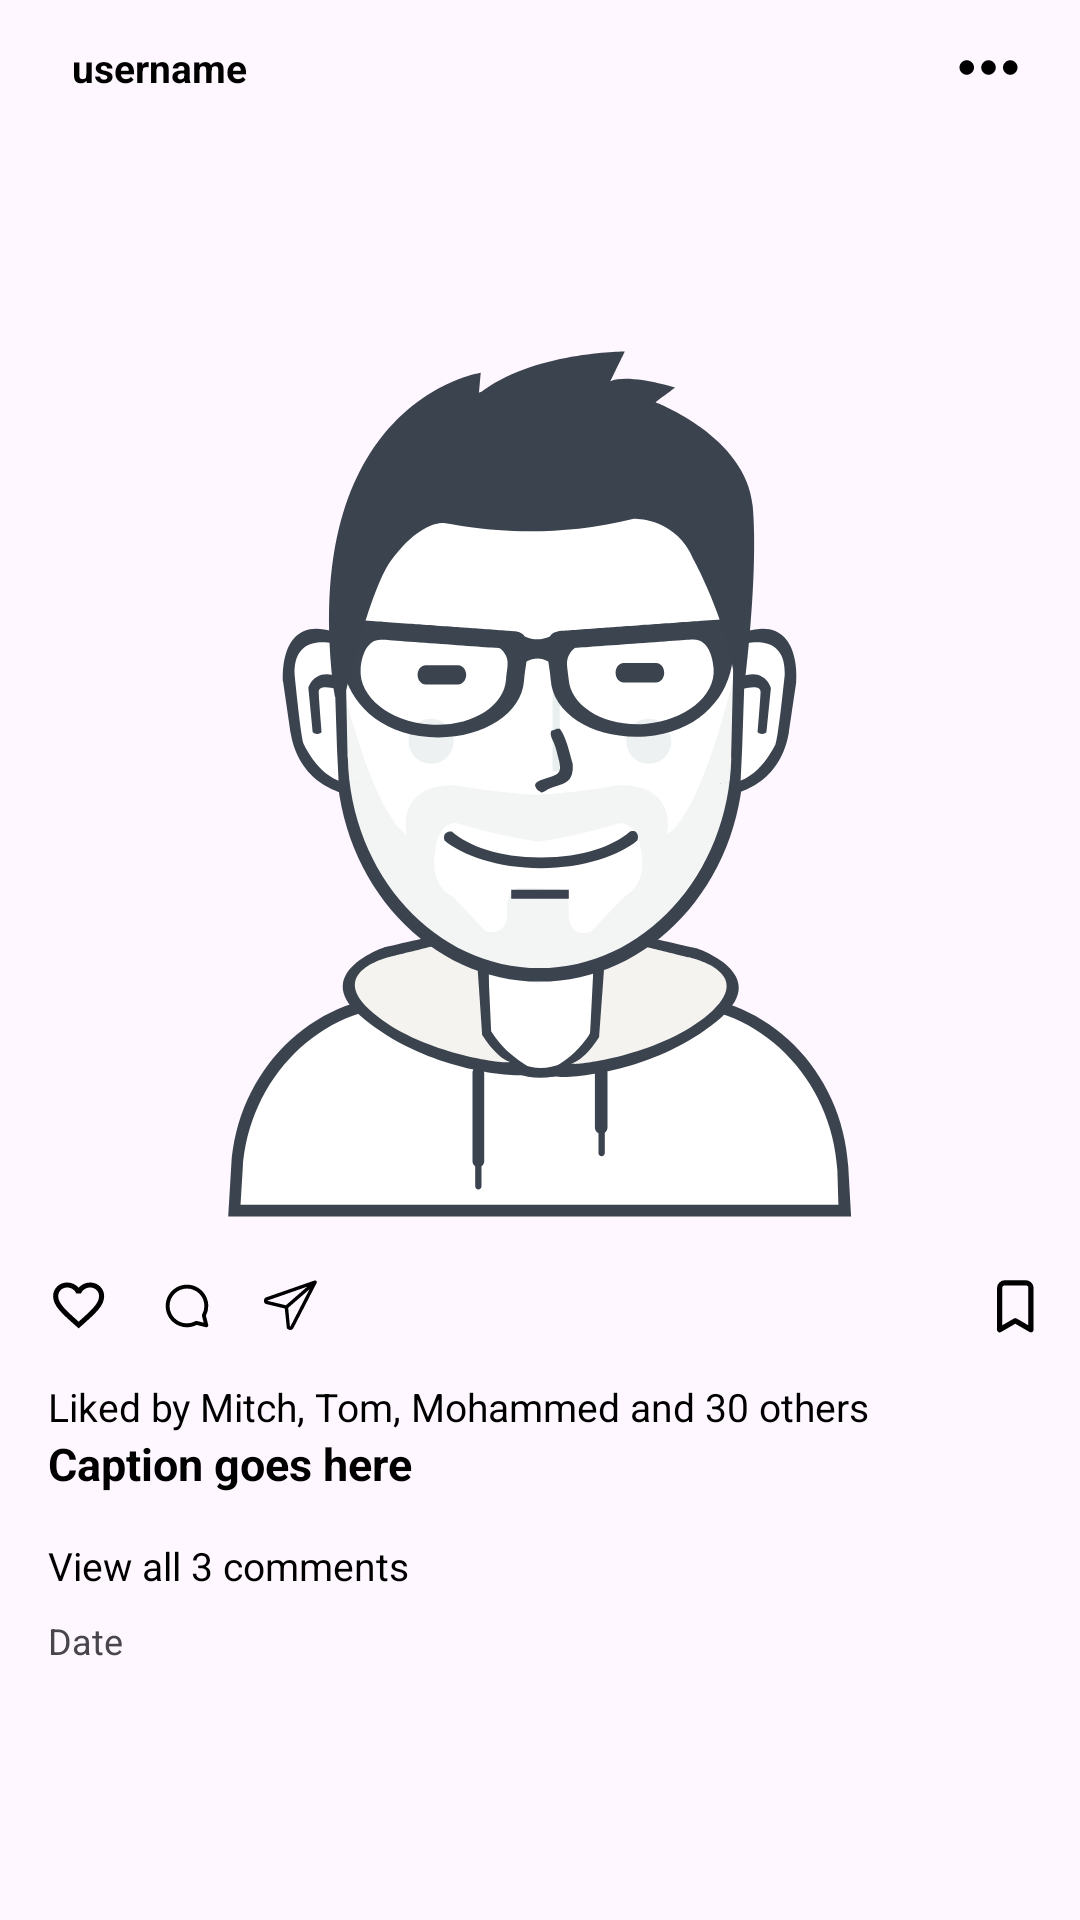

Icons on this 1080x1920 Android screen, each with the point to tap as (x,y):
comment: (187,1306)
more: (988,67)
save: (1015,1306)
share: (290,1305)
